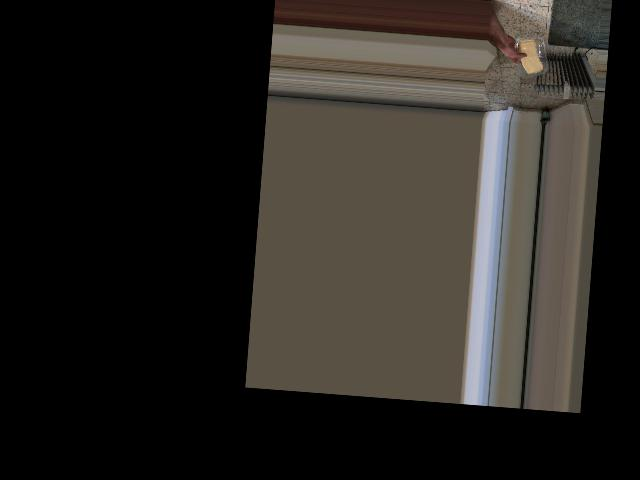cheese: (514, 35, 546, 78)
